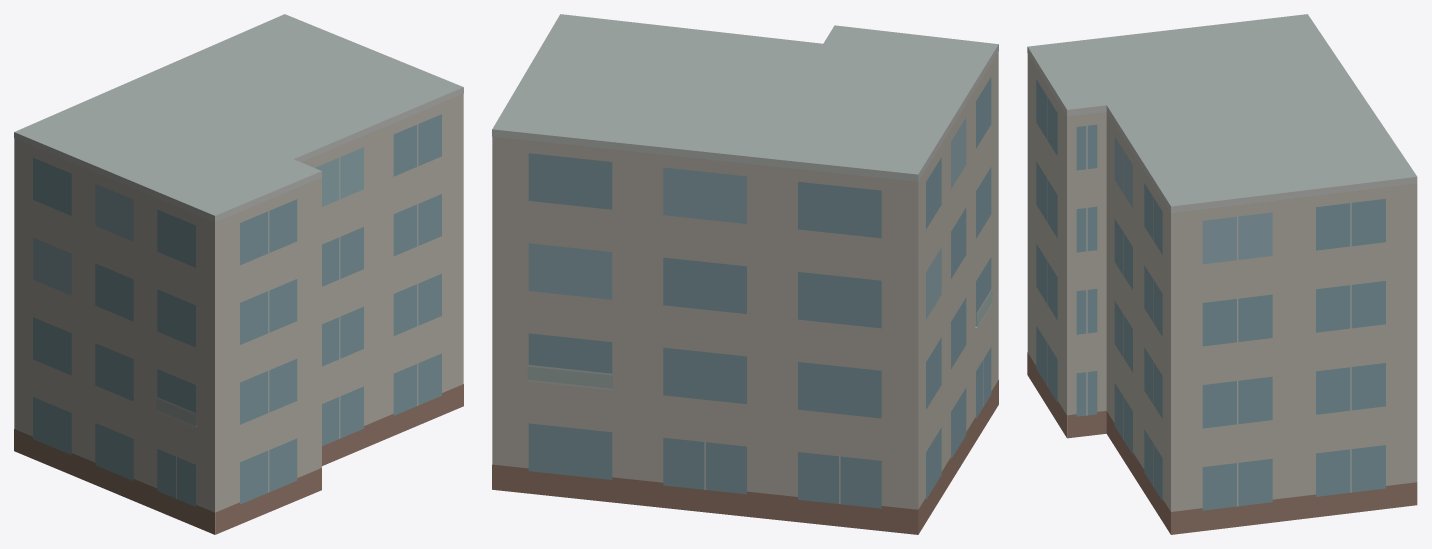
Rendered from survey-upis-32865554.glb.
3 views of the same model, side by side, from view 1: azimuth 30°, elevation 25°; view 2: azimuth 150°, elevation 25°; view 3: azimuth 270°, elevation 25° (orthographic). The views are drawn at different scales.
Parts seen in each view (by area): view 1: survey-upis-32865554.tmp; view 2: survey-upis-32865554.tmp; view 3: survey-upis-32865554.tmp.
Part boxes in pixels (left/top/right/bottom): survey-upis-32865554.tmp: left=14, top=14, right=463, bottom=534; survey-upis-32865554.tmp: left=492, top=14, right=998, bottom=534; survey-upis-32865554.tmp: left=1027, top=14, right=1417, bottom=534.
Size of the model in its own units: 15.41 by 12.25 by 13.19.
